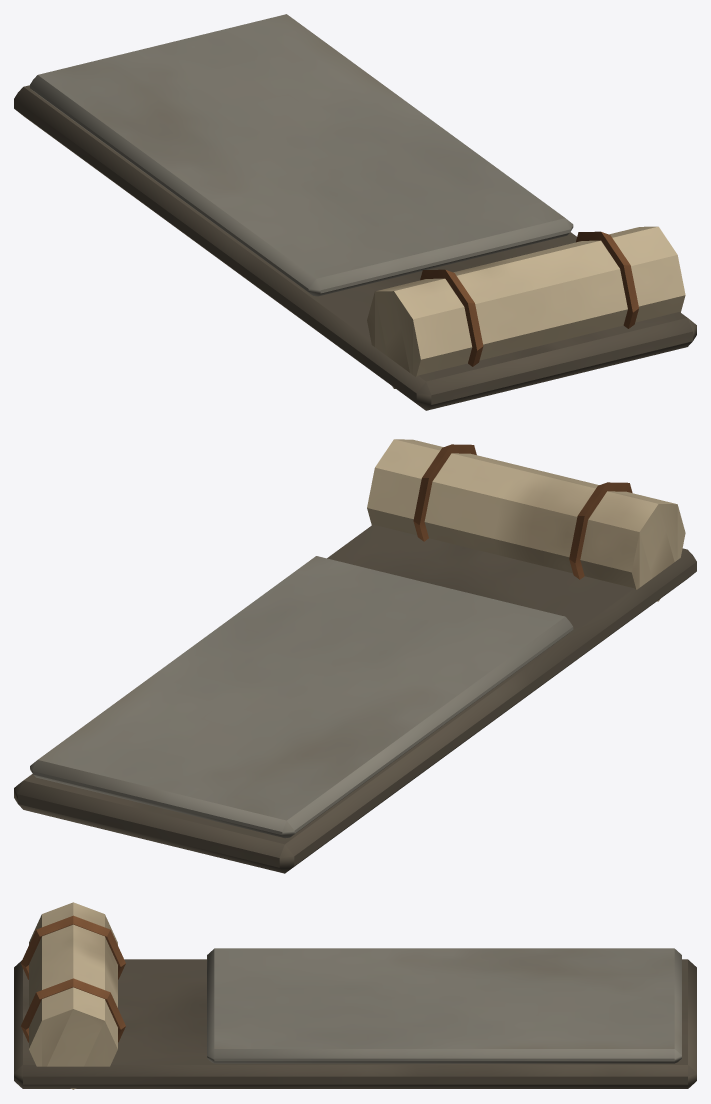
The model's file is SM_Camp_Bedroll.fbx.
3 renders of one model, top to bottom at view 1: azimuth 30°, elevation 25°; view 2: azimuth 150°, elevation 25°; view 3: azimuth 270°, elevation 25°, orthographic. The views are drawn at different scales.
Parts seen in each view (by area): view 1: SM_Camp_Bedroll; view 2: SM_Camp_Bedroll; view 3: SM_Camp_Bedroll.
Boxes of the visible parts, x1,y1,x2,y2 form: SM_Camp_Bedroll: (14, 14, 696, 410); SM_Camp_Bedroll: (14, 439, 696, 873); SM_Camp_Bedroll: (14, 902, 696, 1089).
Size of the model in its own units: 1.8 by 0.7093 by 4.6.
Materials: 1 (1 with a texture image).
